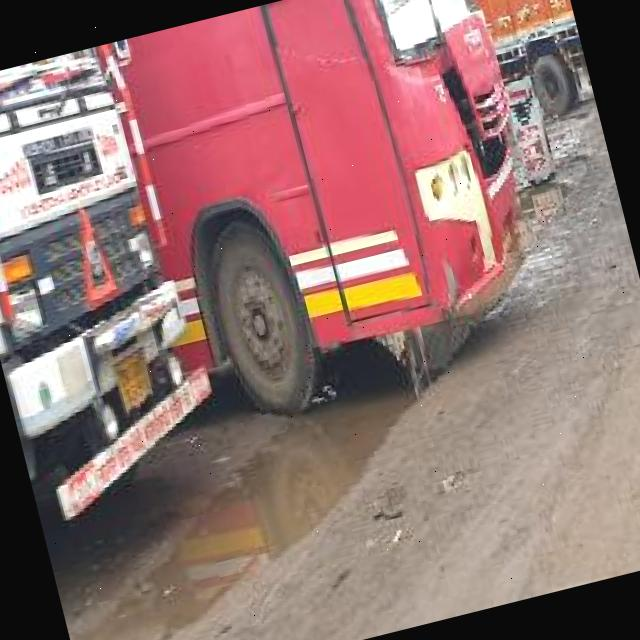stagnation: (68, 440, 399, 640)
